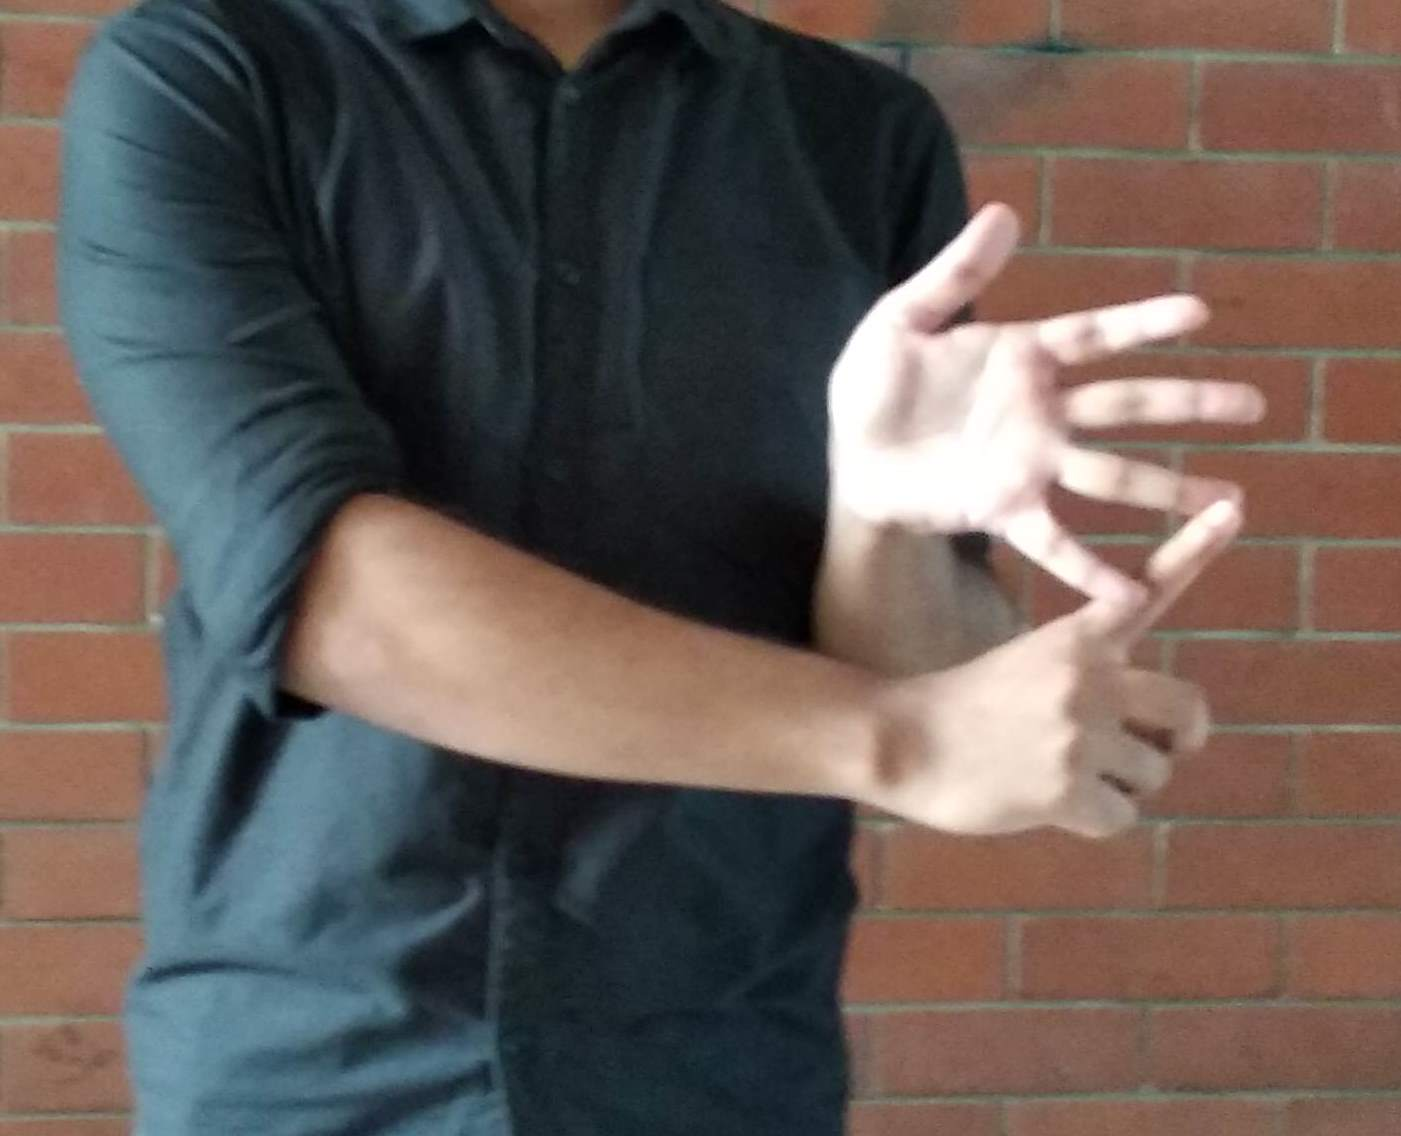e: (836, 207, 1241, 862)
